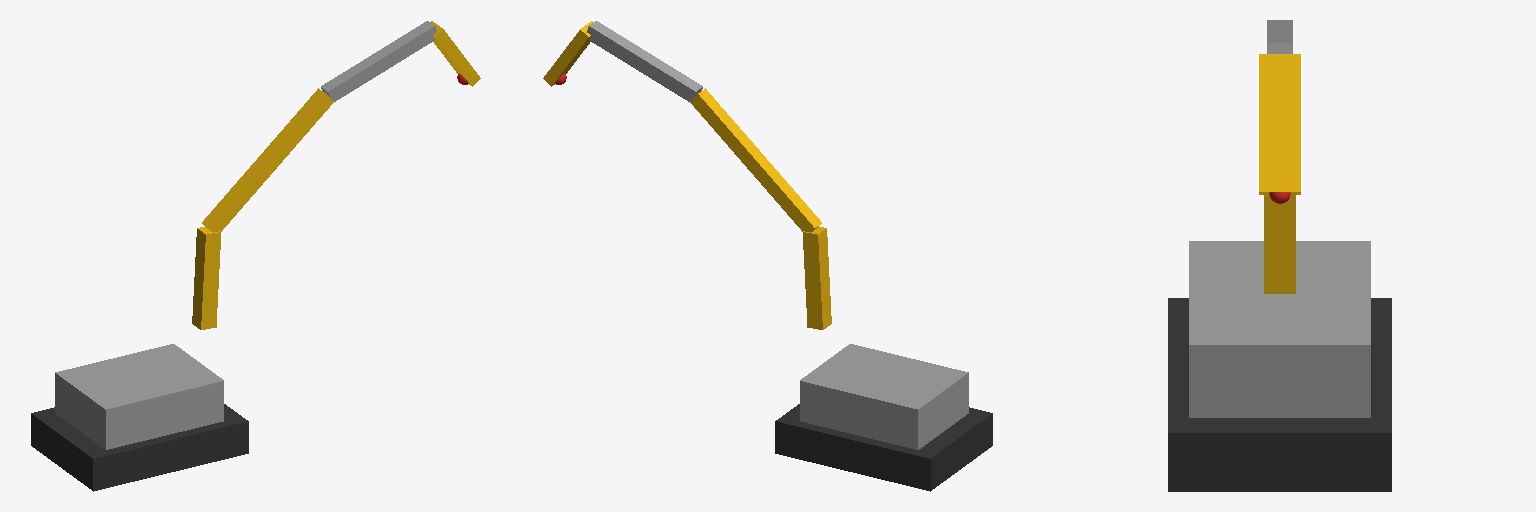
The robot description file, URDF, robot "describe_60FED_calibrated":
<?xml version="1.0" encoding="utf-8"?>
<!--
  Calibrated excavator URDF derived from:
  src/shandong/v10_cailbration_arm/readme_arm.md

  This model prioritizes kinematic alignment with the control program over
  visual fidelity to the SolidWorks-exported CAD mesh. The goal is to make the
  bucket-tip trajectory and joint commands consistent with the measured model.

  Joint command semantics are intentionally aligned with the V4/V10 program:
  - swing_joint  : swing_yaw      (deg, positive by standard URDF yaw)
  - boom_joint   : boom_swing     (deg, positive means boom goes down)
  - arm_joint    : arm_boom       (deg, positive means arm retracts / goes in)
  - bucket_joint : bucket_arm     (deg, positive means bucket curls in)

  The calibration offsets are embedded into the joint origin rpy values so that
  the program can drive this URDF with the same joint variables used by V4.
-->
<robot name="describe_60FED_calibrated">
  <material name="dark_gray">
    <color rgba="0.25 0.25 0.25 1.0" />
  </material>
  <material name="light_gray">
    <color rgba="0.65 0.65 0.65 1.0" />
  </material>
  <material name="yellow">
    <color rgba="0.95 0.75 0.10 1.0" />
  </material>
  <material name="red">
    <color rgba="0.85 0.20 0.20 1.0" />
  </material>

  <!--
    Base frame definition:
    - origin is the ground projection of the swing center
    - +X forward
    - +Y left
    - +Z up
  -->
  <link name="base_link">
    <visual>
      <origin xyz="0 0 0.06" rpy="0 0 0" />
      <geometry>
        <box size="0.60 0.42 0.12" />
      </geometry>
      <material name="dark_gray" />
    </visual>
    <collision>
      <origin xyz="0 0 0.06" rpy="0 0 0" />
      <geometry>
        <box size="0.60 0.42 0.12" />
      </geometry>
    </collision>
    <inertial>
      <origin xyz="0 0 0.06" rpy="0 0 0" />
      <mass value="1.0" />
      <inertia ixx="0.01" ixy="0.0" ixz="0.0" iyy="0.01" iyz="0.0" izz="0.01" />
    </inertial>
  </link>

  <link name="upper_structure_link">
    <visual>
      <origin xyz="0 0 0.16" rpy="0 0 0" />
      <geometry>
        <box size="0.46 0.34 0.22" />
      </geometry>
      <material name="light_gray" />
    </visual>
    <collision>
      <origin xyz="0 0 0.16" rpy="0 0 0" />
      <geometry>
        <box size="0.46 0.34 0.22" />
      </geometry>
    </collision>
    <inertial>
      <origin xyz="0 0 0.16" rpy="0 0 0" />
      <mass value="1.0" />
      <inertia ixx="0.01" ixy="0.0" ixz="0.0" iyy="0.01" iyz="0.0" izz="0.01" />
    </inertial>
  </link>

  <joint name="swing_joint" type="revolute">
    <origin xyz="0 0 0" rpy="0 0 0" />
    <parent link="base_link" />
    <child link="upper_structure_link" />
    <axis xyz="0 0 1" />
    <limit lower="-3.141592653589793" upper="3.141592653589793" effort="50" velocity="2.0" />
  </joint>

  <!--
    Boom root pivot from readme_arm:
    Offset_X = 0.25 m
    Offset_Z = 0.40 m

    The boom is modeled as a rigid goose-neck with:
    L1 = 0.35 m
    L2 = 0.60 m
    bend = 46 deg downward from L1 to L2

    origin rpy = +86.9 deg around +Y while axis is -Y:
    effective absolute boom-L1 angle = 86.9 deg - boom_swing
  -->
  <link name="boom_link">
    <visual>
      <origin xyz="0.175 0 0" rpy="0 0 0" />
      <geometry>
        <box size="0.35 0.06 0.06" />
      </geometry>
      <material name="yellow" />
    </visual>
    <visual>
      <origin xyz="0.55839751122943 0 -0.215801936598831" rpy="0 0.8028514559173916 0" />
      <geometry>
        <box size="0.60 0.05 0.05" />
      </geometry>
      <material name="yellow" />
    </visual>
    <collision>
      <origin xyz="0.175 0 0" rpy="0 0 0" />
      <geometry>
        <box size="0.35 0.06 0.06" />
      </geometry>
    </collision>
    <collision>
      <origin xyz="0.55839751122943 0 -0.215801936598831" rpy="0 0.8028514559173916 0" />
      <geometry>
        <box size="0.60 0.05 0.05" />
      </geometry>
    </collision>
    <inertial>
      <origin xyz="0.46 0 -0.10" rpy="0 0 0" />
      <mass value="1.0" />
      <inertia ixx="0.02" ixy="0.0" ixz="0.0" iyy="0.02" iyz="0.0" izz="0.02" />
    </inertial>
  </link>

  <joint name="boom_joint" type="revolute">
    <origin xyz="0.25 0 0.40" rpy="0 -1.5166915236764048 0" />
    <parent link="upper_structure_link" />
    <child link="boom_link" />
    <axis xyz="0 1 0" />
    <limit lower="-0.08726646259971647" upper="0.9599310885968813" effort="50" velocity="1.5" />
  </joint>

  <!--
    Arm joint is placed at the end of the goose-neck boom:
    x = L1 + L2 * cos(46 deg) = 0.766795...
    z = -L2 * sin(46 deg)     = -0.431604...

    To preserve V4 semantics:
    relative arm angle = -67.3 deg - arm_boom
    so origin rpy = -67.3 deg and axis is -Y.
  -->
  <link name="arm_link">
    <visual>
      <origin xyz="0.22 0 0" rpy="0 0 0" />
      <geometry>
        <box size="0.44 0.05 0.05" />
      </geometry>
      <material name="light_gray" />
    </visual>
    <collision>
      <origin xyz="0.22 0 0" rpy="0 0 0" />
      <geometry>
        <box size="0.44 0.05 0.05" />
      </geometry>
    </collision>
    <inertial>
      <origin xyz="0.22 0 0" rpy="0 0 0" />
      <mass value="0.6" />
      <inertia ixx="0.01" ixy="0.0" ixz="0.0" iyy="0.01" iyz="0.0" izz="0.01" />
    </inertial>
  </link>

  <joint name="arm_joint" type="revolute">
    <origin xyz="0.76679502245886 0 -0.431603873197662" rpy="0 1.1746065943395084 0" />
    <parent link="boom_link" />
    <child link="arm_link" />
    <axis xyz="0 1 0" />
    <limit lower="-0.08726646259971647" upper="1.6580627893946132" effort="50" velocity="1.5" />
  </joint>

  <!--
    Bucket relative angle from the calibrated model:
    relative bucket angle = -75.8 deg - bucket_arm
  -->
  <link name="bucket_link">
    <visual>
      <origin xyz="0.13 0 0" rpy="0 0 0" />
      <geometry>
        <box size="0.26 0.08 0.04" />
      </geometry>
      <material name="yellow" />
    </visual>
    <visual>
      <origin xyz="0.24 0 -0.015" rpy="0 0 0" />
      <geometry>
        <sphere radius="0.025" />
      </geometry>
      <material name="red" />
    </visual>
    <collision>
      <origin xyz="0.13 0 0" rpy="0 0 0" />
      <geometry>
        <box size="0.26 0.08 0.04" />
      </geometry>
    </collision>
    <inertial>
      <origin xyz="0.13 0 0" rpy="0 0 0" />
      <mass value="0.3" />
      <inertia ixx="0.005" ixy="0.0" ixz="0.0" iyy="0.005" iyz="0.0" izz="0.005" />
    </inertial>
  </link>

  <joint name="bucket_joint" type="revolute">
    <origin xyz="0.44 0 0" rpy="0 1.322959573823596 0" />
    <parent link="arm_link" />
    <child link="bucket_link" />
    <axis xyz="0 1 0" />
    <limit lower="-1.6580627893946132" upper="0.3490658503988659" effort="30" velocity="2.0" />
  </joint>

  <link name="bucket_tip_link">
    <visual>
      <origin xyz="0 0 0" rpy="0 0 0" />
      <geometry>
        <sphere radius="0.02" />
      </geometry>
      <material name="red" />
    </visual>
    <inertial>
      <origin xyz="0 0 0" rpy="0 0 0" />
      <mass value="0.01" />
      <inertia ixx="1e-5" ixy="0.0" ixz="0.0" iyy="1e-5" iyz="0.0" izz="1e-5" />
    </inertial>
  </link>

  <joint name="bucket_tip_fixed_joint" type="fixed">
    <origin xyz="0.26 0 0" rpy="0 0 0" />
    <parent link="bucket_link" />
    <child link="bucket_tip_link" />
  </joint>
</robot>

--- Render facts (derived) ---
The picture shows the robot from 3 angles, left to right: view 1: azimuth 30°, elevation 25°; view 2: azimuth 150°, elevation 25°; view 3: azimuth 270°, elevation 25°; orthographic projection.
Robot: describe_60FED_calibrated — 6 links, 5 joints (4 revolute, 1 fixed); root link base_link; default pose: every joint at zero.
Links seen in each view (by area): view 1: upper_structure_link, base_link, boom_link, arm_link, bucket_link; view 2: upper_structure_link, base_link, boom_link, arm_link, bucket_link; view 3: upper_structure_link, base_link, bucket_link, boom_link, arm_link.
Link boxes in pixels (x1,y1,x2,y2): upper_structure_link: [55, 344, 223, 449]; base_link: [31, 404, 248, 491]; boom_link: [192, 88, 333, 329]; arm_link: [321, 21, 436, 101]; bucket_link: [430, 21, 480, 86]; upper_structure_link: [800, 344, 968, 449]; base_link: [775, 404, 992, 491]; boom_link: [690, 88, 831, 329]; arm_link: [587, 21, 702, 101]; bucket_link: [543, 21, 593, 86]; upper_structure_link: [1189, 241, 1370, 417]; base_link: [1168, 298, 1391, 491]; bucket_link: [1259, 54, 1300, 194]; boom_link: [1264, 195, 1295, 293]; arm_link: [1267, 20, 1292, 53].
Bounding box of the posed robot: 1.6 × 0.42 × 1.31 m (x, y, z).
Geometry: primitives only (box / cylinder / sphere), no mesh files.
